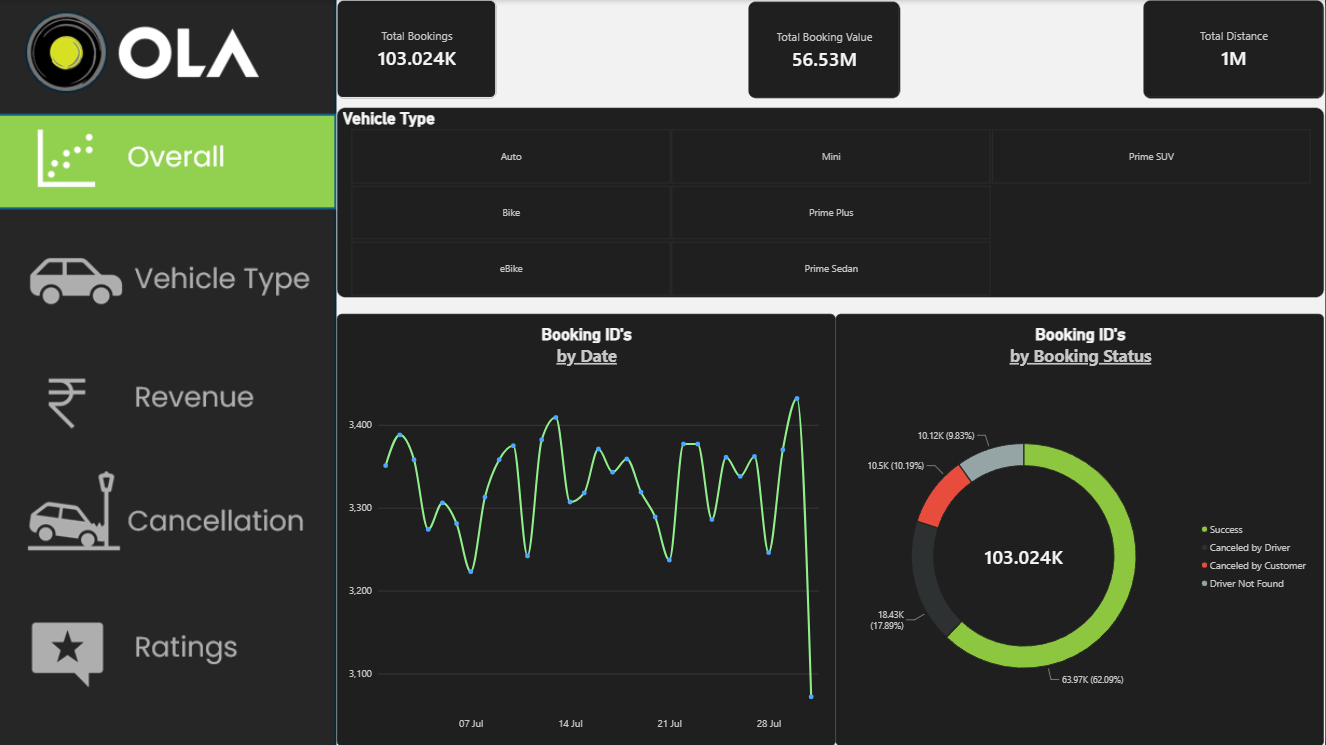

Layout of this report page (visuals, bound fields, positions):
{"tool":"powerbi","page":{"name":"Overall","canvas":[1920,1080],"ordinal":0},"visuals":[{"type":"cardVisual","fields":{"Data":["CountNonNull(ola_project ola_rides.Booking_ID)"]},"box":[490.4,0,231.6,143],"z":0},{"type":"cardVisual","fields":{"Data":["Sum(ola_project ola_rides.Booking_Value)"]},"box":[1085.8,1.8,220.8,141.2],"z":1},{"type":"cardVisual","fields":{"Data":["Sum(ola_project ola_rides.Ride_Distance)"]},"box":[1657.6,0,262.4,143],"z":2},{"type":"lineChart","fields":{"Category":["ola_project ola_rides.Date"],"Y":["CountNonNull(ola_project ola_rides.Booking_ID)"]},"box":[490.4,454.2,722.1,626.1],"z":3},{"type":"donutChart","fields":{"Category":["ola_project ola_rides.Booking_Status"],"Y":["CountNonNull(ola_project ola_rides.Booking_ID)"]},"box":[1212.5,454.2,707.6,626.1],"z":4},{"type":"slicer","fields":{"Values":["ola_project ola_rides.Vehicle_Type"]},"box":[490.4,155.6,1429.6,275.1],"z":5}]}

Visuals, with their boxes on the page's 1920x1080 design canvas (x1, y1, x2, y2). These are canvas units, not pixel positions in the 1326x745 screenshot, which may show the page scaled, cropped or inside an application window:
cardVisual - CountNonNull(ola_project ola_rides.Booking_ID): x1=490 y1=0 x2=722 y2=143
cardVisual - Sum(ola_project ola_rides.Booking_Value): x1=1086 y1=2 x2=1307 y2=143
cardVisual - Sum(ola_project ola_rides.Ride_Distance): x1=1658 y1=0 x2=1920 y2=143
lineChart - ola_project ola_rides.Date x CountNonNull(ola_project ola_rides.Booking_ID): x1=490 y1=454 x2=1212 y2=1080
donutChart - ola_project ola_rides.Booking_Status x CountNonNull(ola_project ola_rides.Booking_ID): x1=1212 y1=454 x2=1920 y2=1080
slicer - ola_project ola_rides.Vehicle_Type: x1=490 y1=156 x2=1920 y2=431
